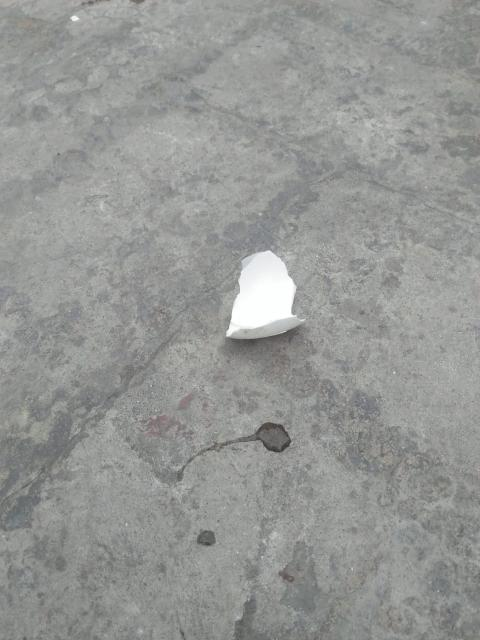Roto: (225, 248, 306, 340)
